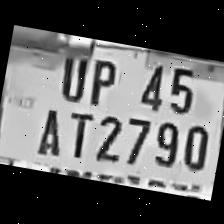0: (174, 114, 213, 172)
2: (87, 108, 126, 166)
4: (130, 52, 169, 110)
5: (160, 57, 199, 114)
7: (116, 110, 154, 172)
9: (146, 113, 183, 170)
A: (30, 99, 68, 160)
P: (81, 48, 121, 107)
T: (60, 104, 96, 160)
U: (51, 41, 92, 102)
